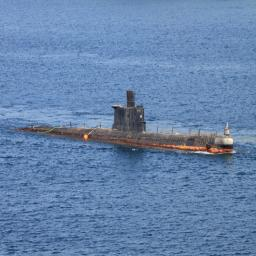submarine: (20, 85, 233, 154)
